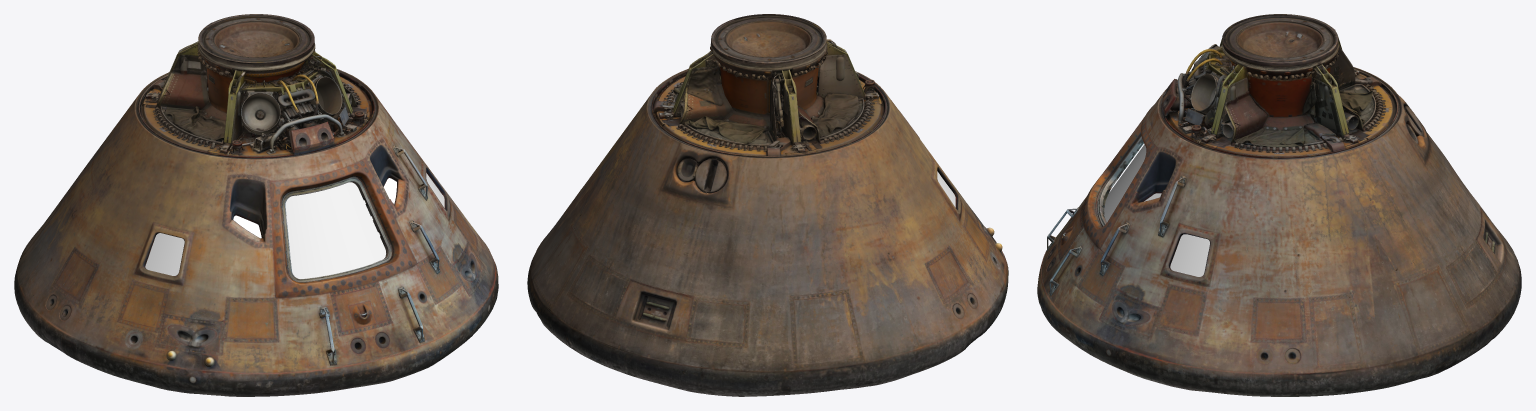
3 renders of one model, left to right at view 1: azimuth 30°, elevation 25°; view 2: azimuth 150°, elevation 25°; view 3: azimuth 270°, elevation 25°, orthographic.
Parts seen in each view (by area): view 1: model; view 2: model; view 3: model.
Part boxes in pixels (x1,y1,x2,y2): model: [14, 14, 498, 396]; model: [527, 14, 1008, 396]; model: [1037, 14, 1521, 396].
Size of the model in its own units: 3.91 by 2.74 by 3.92.
Materials: 3 (2 with a texture image).
